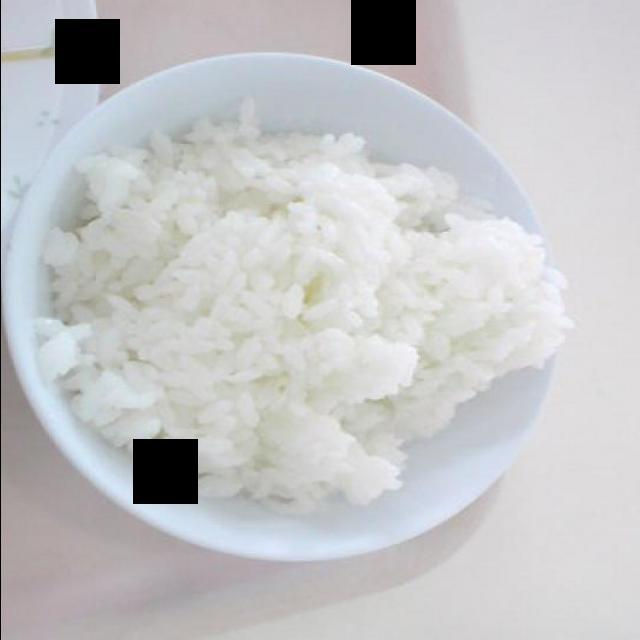rice: (21, 103, 573, 516)
